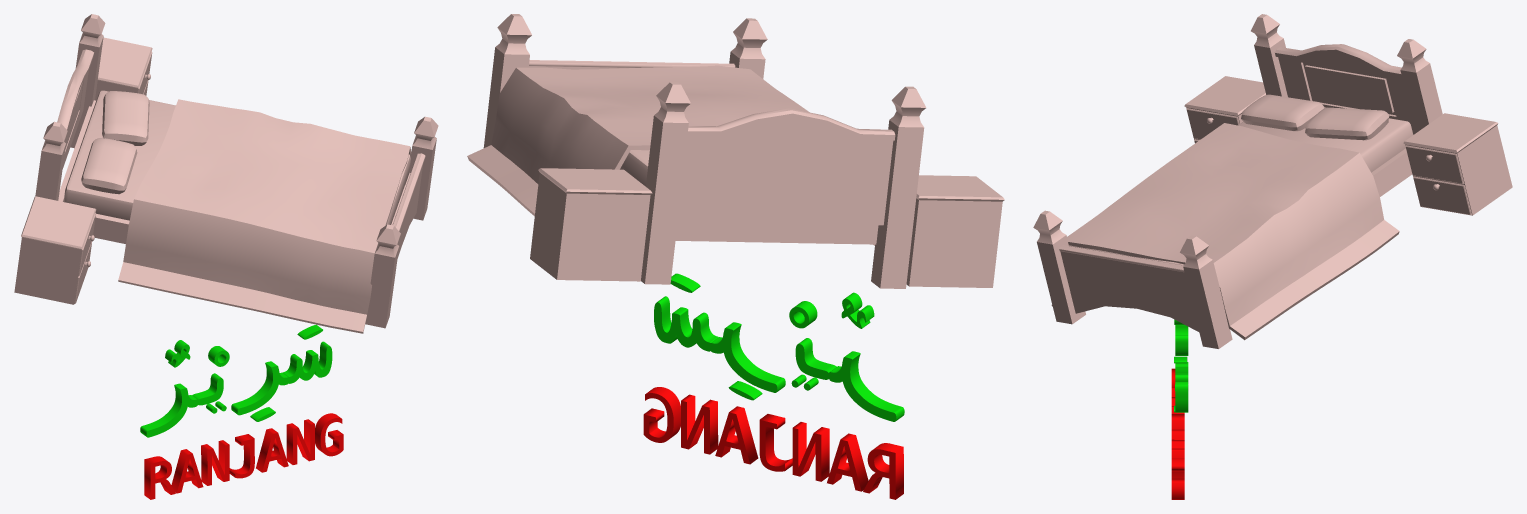
The model's file is bed.fbx.
The picture shows the model from 3 angles, left to right: view 1: azimuth 30°, elevation 25°; view 2: azimuth 150°, elevation 25°; view 3: azimuth 270°, elevation 25°; orthographic projection. The views are drawn at different scales.
Parts seen in each view (by area): view 1: Cube.004, Teks, Text; view 2: Cube.004, Teks, Text, Text.002, Text.004; view 3: Cube.004, Teks, Text.
Part boxes in pixels (x1,y1,x2,y2): Cube.004: (14,14,438,333); Teks: (144,413,343,499); Text: (140,341,332,437); Cube.004: (467,14,1004,288); Teks: (643,387,903,499); Text: (654,296,904,421); Text.002: (841,292,874,328); Text.004: (789,301,817,328); Cube.004: (1033,14,1512,348); Teks: (1171,368,1184,499); Text: (1175,325,1188,412).
Bounding box in the file's own units: 735 × 673 × 738.
